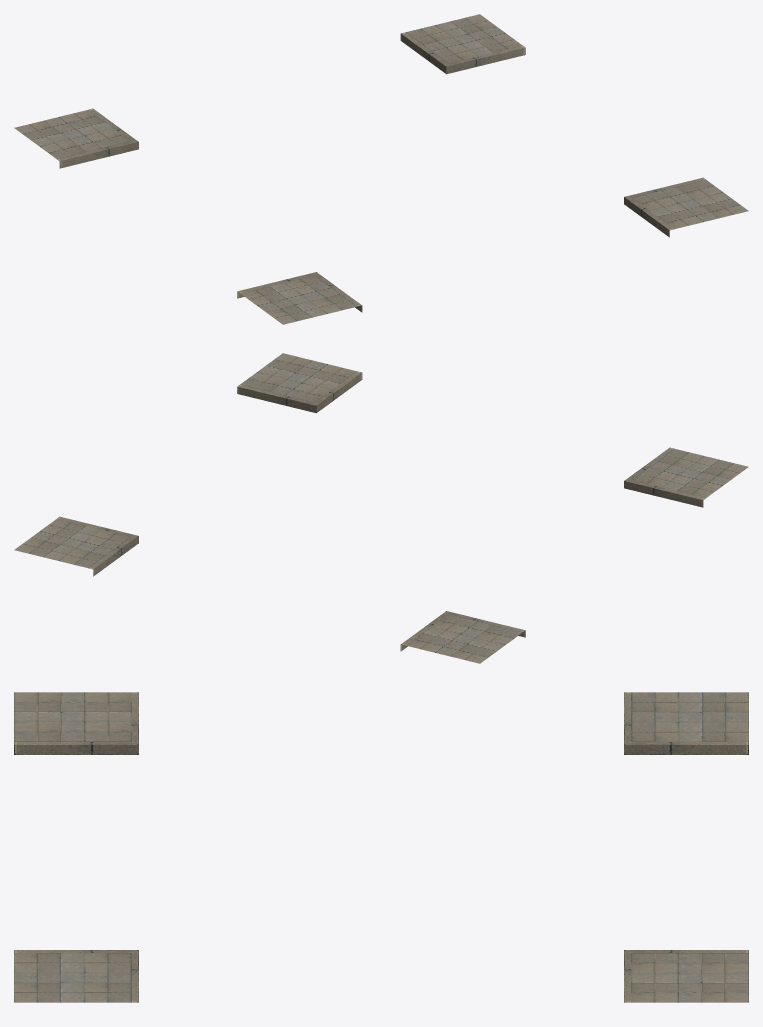
Rendered from bibeko-50-kruispunt-stoep.FBX.
3 renders of one model, top to bottom at view 1: azimuth 30°, elevation 25°; view 2: azimuth 150°, elevation 25°; view 3: azimuth 270°, elevation 25°, orthographic. The views are drawn at different scales.
Parts seen in each view (by area): view 1: Stoep, Stoep001, Stoep002, Stoep003, Stoepband (×2), Stoepband006, Stoepband001; view 2: Stoep, Stoep001, Stoep002, Stoep003, Stoepband002, Stoepband003, Stoepband001, Stoepband; view 3: Stoep, Stoep001, Stoep002, Stoep003, Stoepband004, Stoepband005.
Part boxes in pixels (x1=…): Stoep: x1=406, y1=14, x2=522, y2=63; Stoep001: x1=631, y1=179, x2=748, y2=229; Stoep002: x1=240, y1=275, x2=356, y2=324; Stoep003: x1=14, y1=109, x2=131, y2=159; Stoepband (×2): x1=400, y1=32, x2=525, y2=74; Stoepband006: x1=57, y1=141, x2=138, y2=168; Stoepband001: x1=624, y1=197, x2=673, y2=237; Stoep: x1=14, y1=518, x2=131, y2=568; Stoep001: x1=240, y1=353, x2=356, y2=402; Stoep002: x1=631, y1=448, x2=748, y2=498; Stoep003: x1=406, y1=614, x2=522, y2=663; Stoepband002: x1=237, y1=384, x2=316, y2=413; Stoepband003: x1=624, y1=480, x2=705, y2=507; Stoepband001: x1=315, y1=371, x2=362, y2=412; Stoepband: x1=89, y1=536, x2=138, y2=576; Stoep: x1=631, y1=953, x2=748, y2=1002; Stoep001: x1=14, y1=953, x2=131, y2=1002; Stoep002: x1=14, y1=692, x2=131, y2=741; Stoep003: x1=631, y1=692, x2=748, y2=741; Stoepband004: x1=14, y1=742, x2=138, y2=754; Stoepband005: x1=624, y1=742, x2=748, y2=754.
Bounding box in the file's own units: 394 × 5.91 × 394.
Materials: 1 (1 with a texture image).
